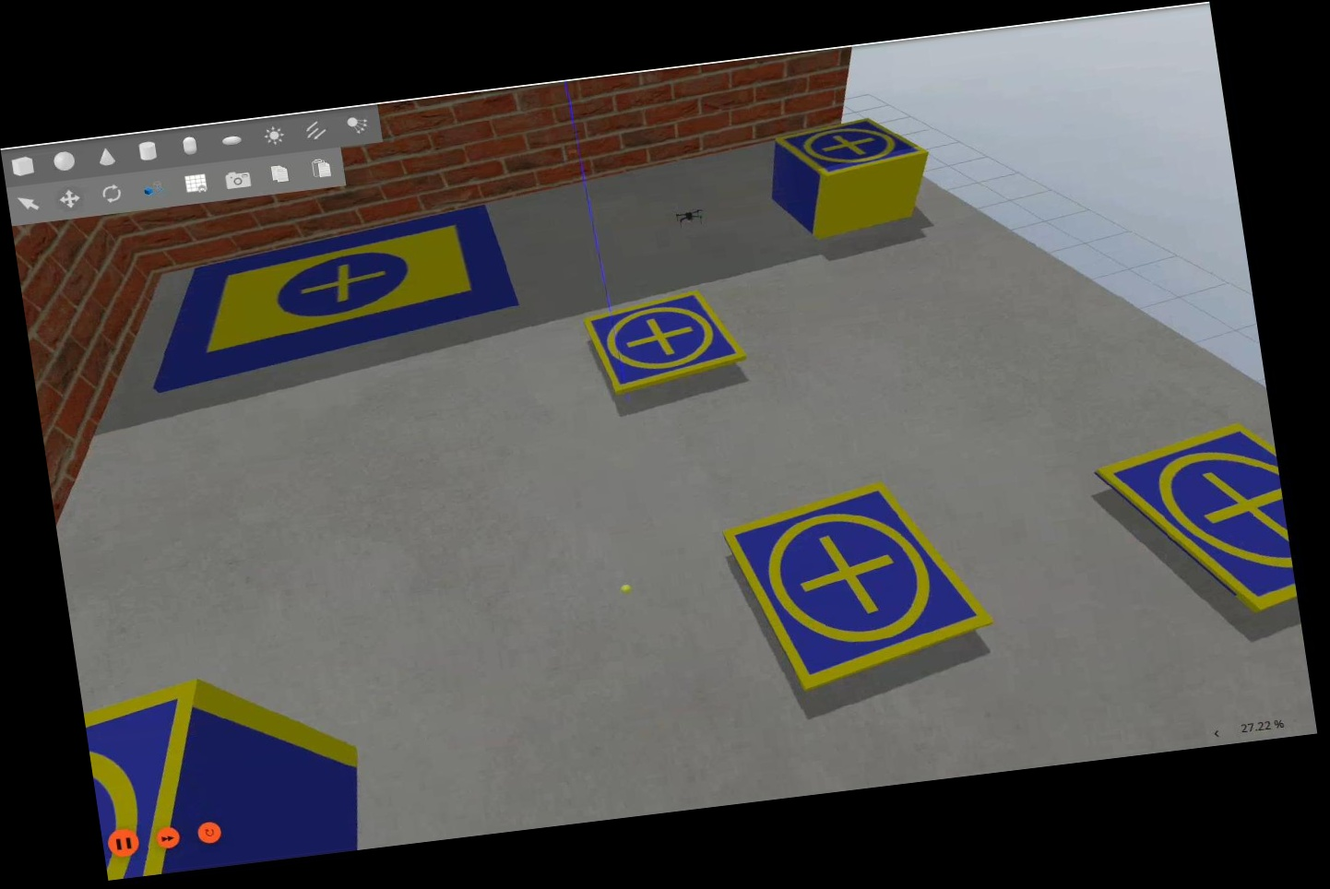large_base: (134, 203, 529, 395)
small_base: (718, 468, 1003, 696), (1087, 417, 1300, 631), (80, 677, 230, 880), (579, 284, 751, 399), (773, 109, 933, 183)
